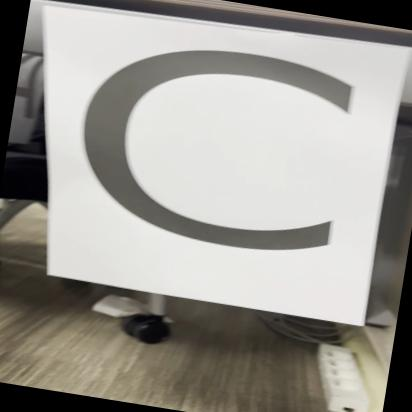seat: (0, 0, 412, 345)
